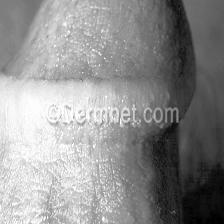Toxin: (22, 125, 156, 224), (75, 80, 164, 106), (36, 101, 48, 118)
